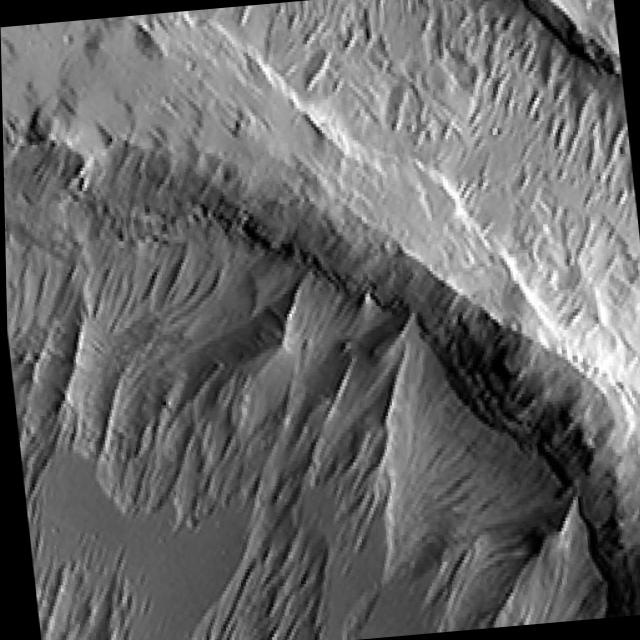Crater: (1, 76, 640, 640)
